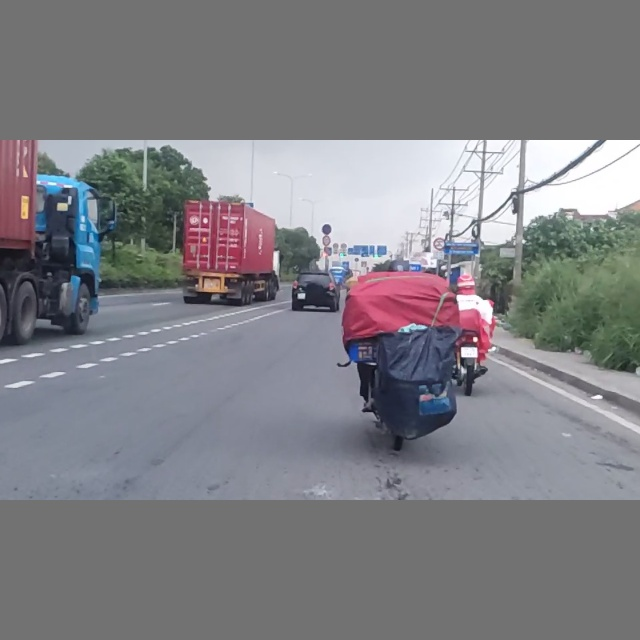P.107: (433, 237, 446, 250)
P.130: (321, 223, 333, 234)
